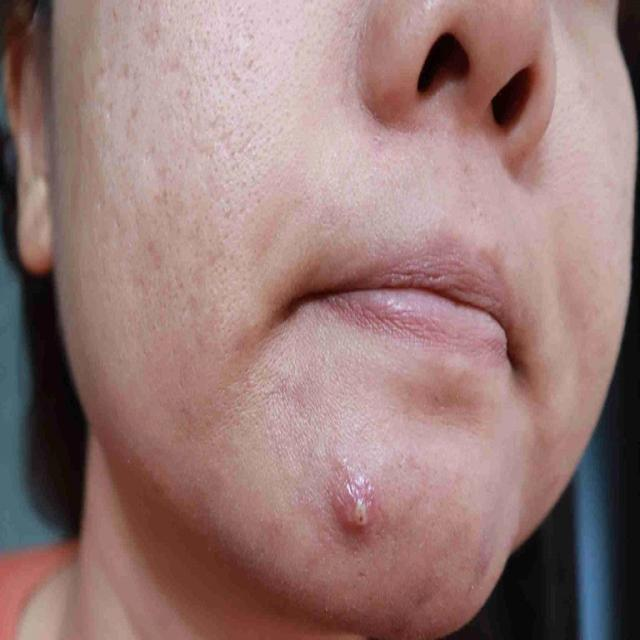nodule: (326, 457, 388, 546)
